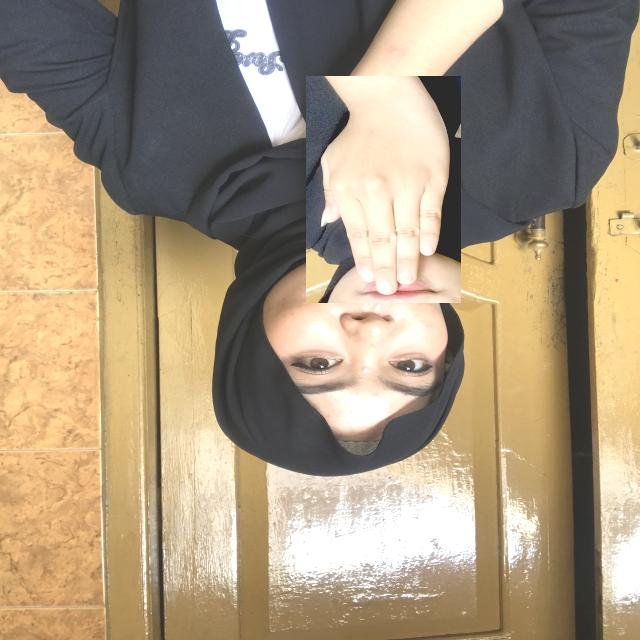ganteng: (306, 76, 461, 303)
